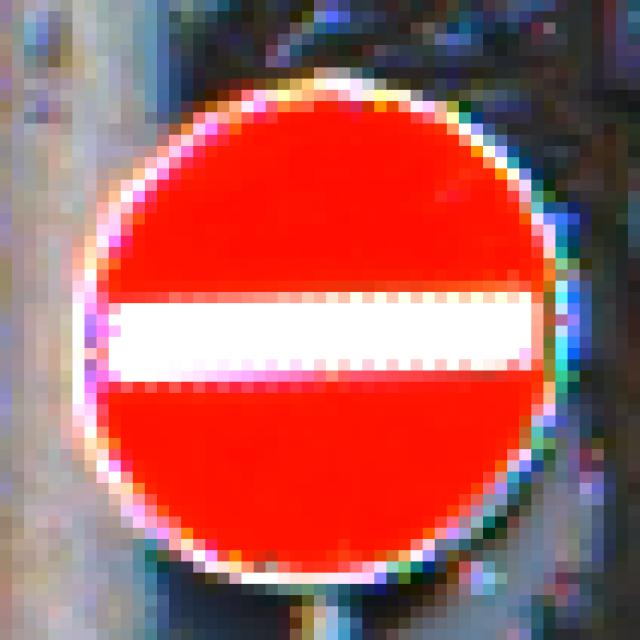No Entry: (74, 68, 581, 585)
